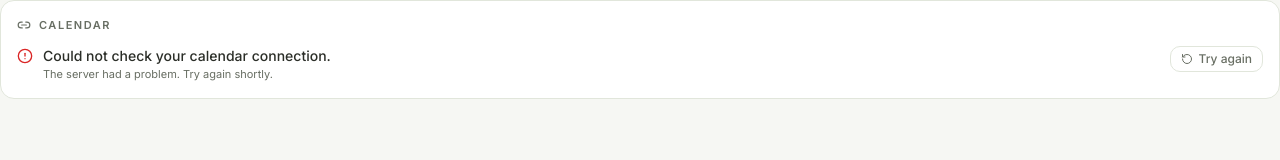
it: PAC-122 SF-055: a failed status read on the dashboard card › retries the read and shows the real status once it answers
The image size is (1280, 160).
Click the button "Try again": click(1216, 58) [1170,46,1263,72]
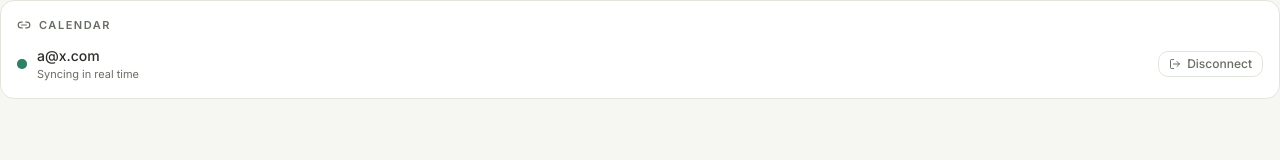
Result: the text "a@x.com" is shown at [37,46,100,64]
